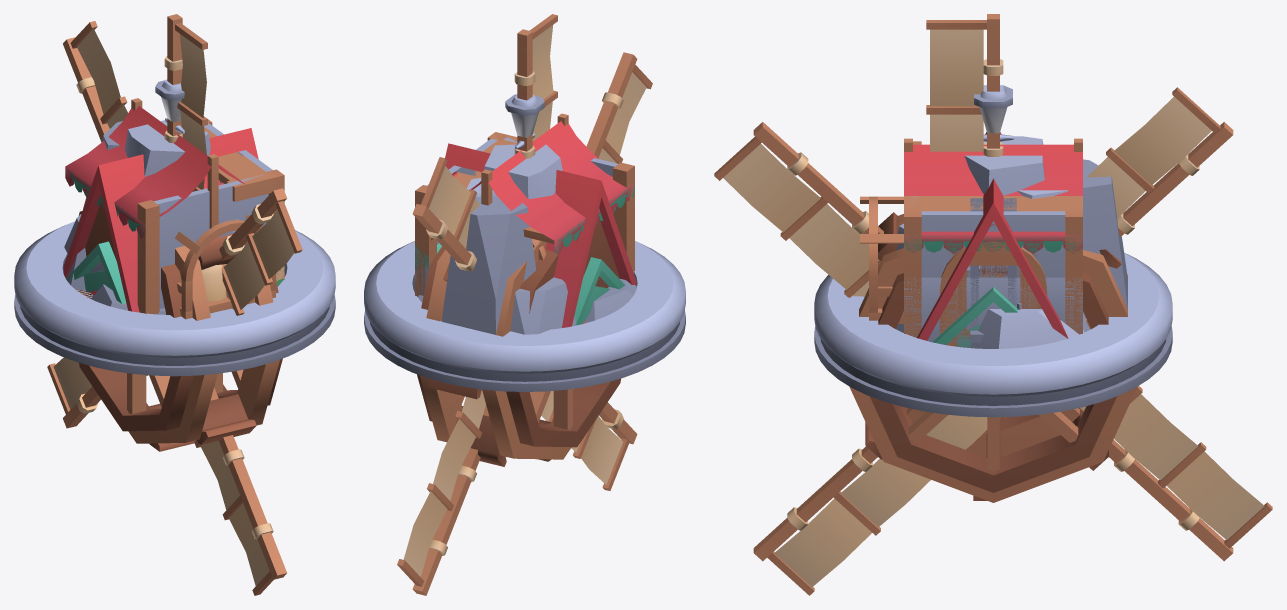
The model's file is vila.glb.
3 views of the same model, side by side, from view 1: azimuth 30°, elevation 25°; view 2: azimuth 150°, elevation 25°; view 3: azimuth 270°, elevation 25° (orthographic). The views are drawn at different scales.
Parts seen in each view (by area): view 1: fountain-round, windmill, watermill, stall-red, roof-high-gable, wall-corner, blade, rock-large, cart-high, overhang, roof-gable, cart (+3 smaller); view 2: fountain-round, windmill, watermill, rock-wide, roof-high-gable, stall-red, rock-large, blade, wall-corner, wall, roof-gable, lantern (+2 smaller); view 3: windmill, fountain-round, watermill, wall, blade, stall-red, rock-large, roof, roof-high-gable, rock-wide, wall-door, overhang (+6 smaller).
Boxes of the visible parts, x1,y1,x2,y2 form: fountain-round: [14, 221, 335, 376]; windmill: [47, 21, 302, 595]; watermill: [78, 197, 282, 451]; stall-red: [65, 98, 245, 238]; roof-high-gable: [63, 128, 285, 312]; wall-corner: [137, 174, 268, 314]; blade: [164, 14, 207, 191]; rock-large: [64, 120, 238, 314]; cart-high: [175, 215, 275, 311]; overhang: [204, 126, 270, 201]; roof-gable: [66, 241, 126, 304]; cart: [176, 274, 275, 319]; fountain-round: [364, 241, 685, 391]; windmill: [397, 52, 652, 595]; watermill: [417, 240, 620, 466]; rock-wide: [441, 191, 536, 334]; roof-high-gable: [445, 143, 636, 327]; stall-red: [471, 113, 634, 254]; rock-large: [414, 144, 636, 334]; blade: [514, 14, 557, 158]; wall-corner: [504, 137, 634, 273]; wall: [415, 132, 508, 295]; roof-gable: [574, 257, 624, 325]; lantern: [505, 94, 544, 149]; windmill: [714, 87, 1272, 595]; fountain-round: [814, 253, 1172, 417]; watermill: [849, 212, 1137, 502]; wall: [904, 209, 1082, 337]; blade: [926, 14, 1003, 156]; stall-red: [904, 138, 1082, 253]; rock-large: [895, 136, 1089, 348]; roof: [904, 277, 1082, 347]; roof-high-gable: [917, 132, 1068, 340]; rock-wide: [896, 159, 1127, 332]; wall-door: [921, 215, 1065, 346]; overhang: [904, 196, 1082, 211].
Bounding box in the file's own units: 2 × 3.56 × 3.11.
1 material, 1 textured.
